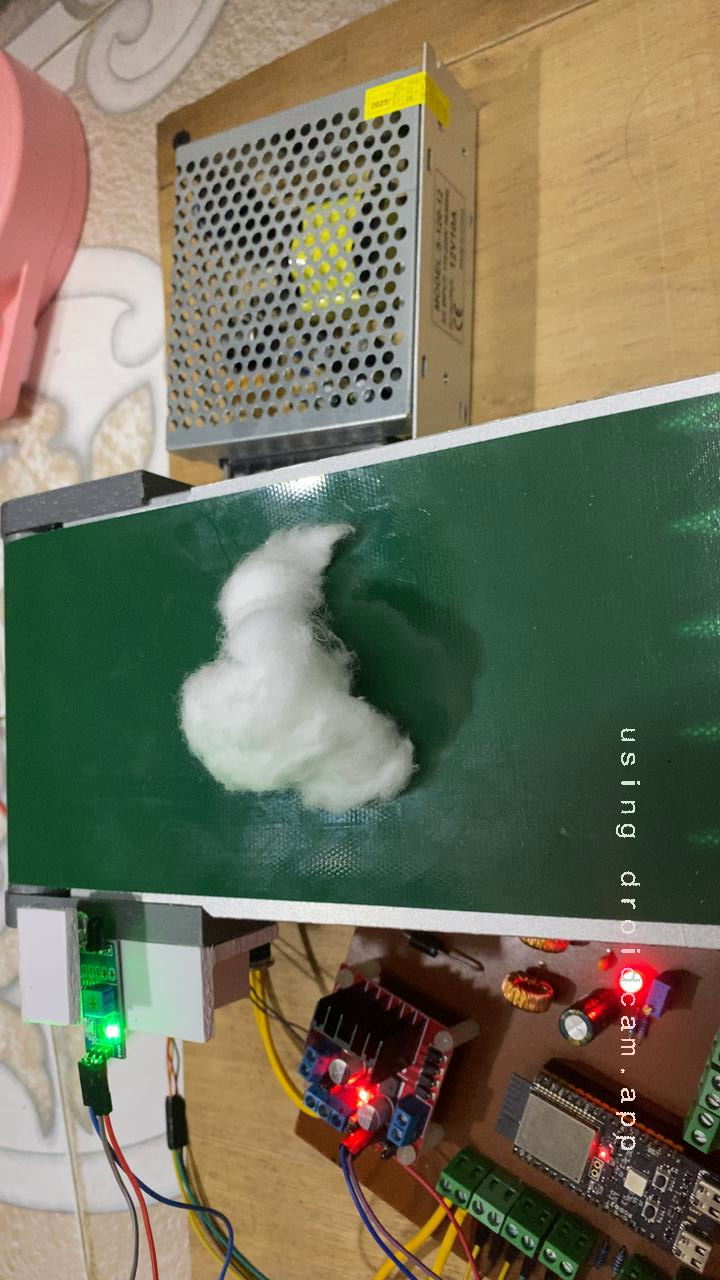cotton: (140, 499, 443, 846)
